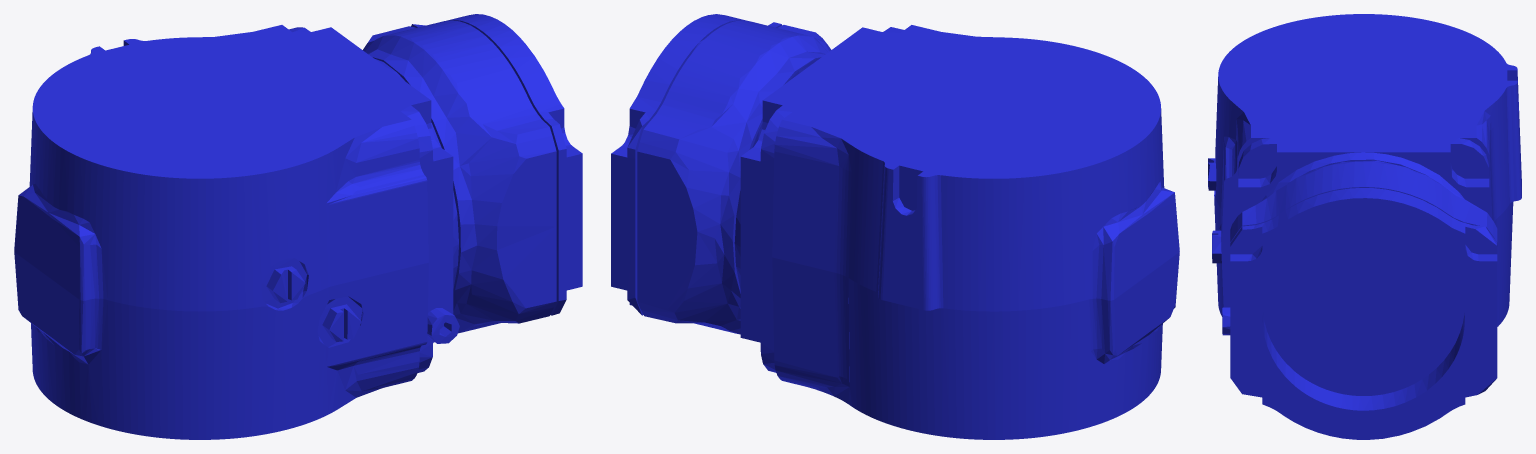
3 renders of one model, left to right at view 1: azimuth 30°, elevation 25°; view 2: azimuth 150°, elevation 25°; view 3: azimuth 270°, elevation 25°, orthographic. The views are drawn at different scales.
Parts seen in each view (by area): view 1: /Link5/Link5_001-mesh/0; view 2: /Link5/Link5_001-mesh/0; view 3: /Link5/Link5_001-mesh/0.
Boxes of the visible parts, x1,y1,x2,y2 form: /Link5/Link5_001-mesh/0: [14, 14, 582, 439]; /Link5/Link5_001-mesh/0: [611, 14, 1179, 439]; /Link5/Link5_001-mesh/0: [1208, 14, 1521, 439].
Bounding box in the file's own units: 0.114 × 0.066 × 0.0776.
